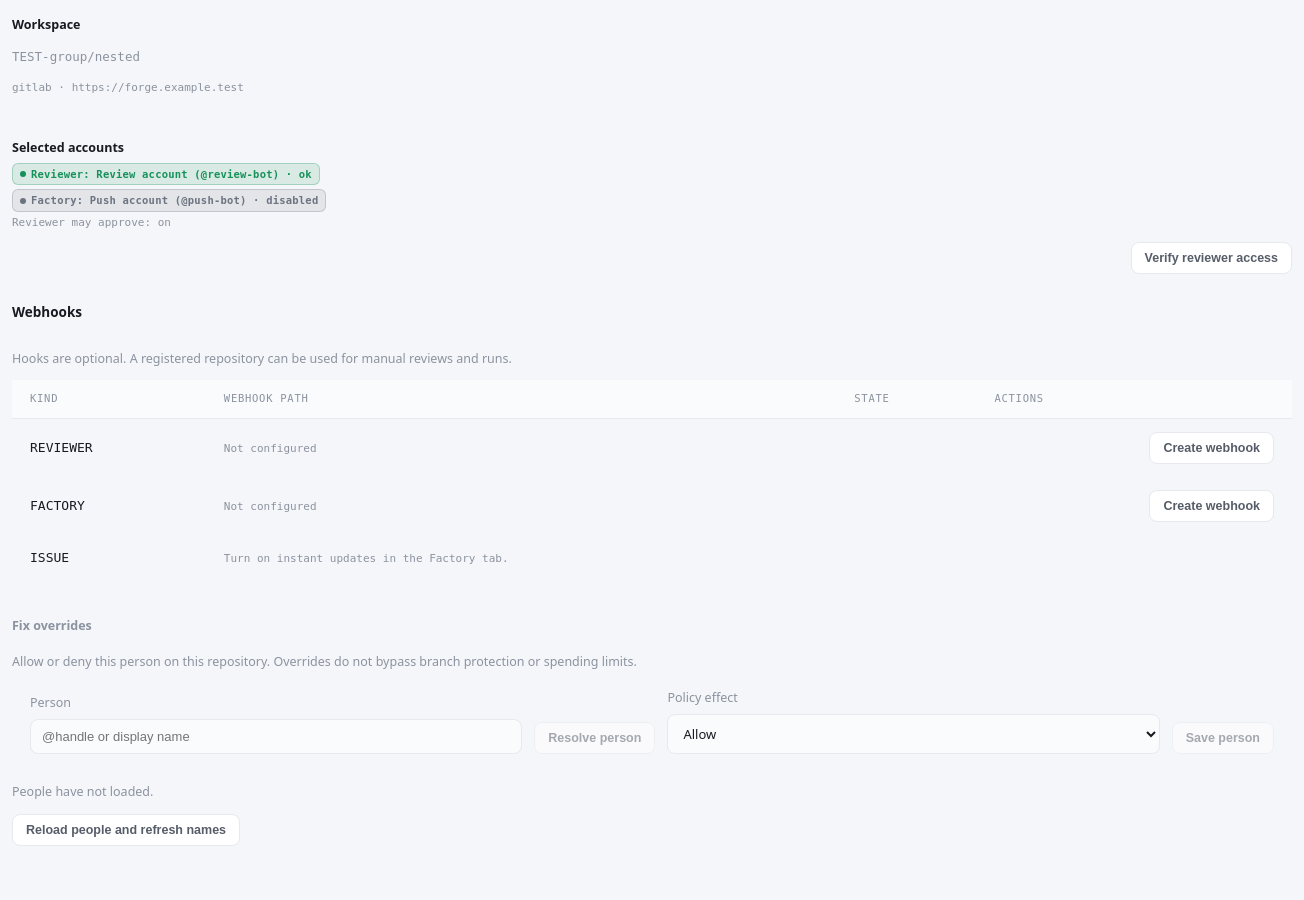
RepositoryDetail › recovers a lost webhook response without creating a duplicate
Step 1. Click the button with aria-label "Create REVIEWER webhook" → (1212, 448), box [1149,432,1274,464]
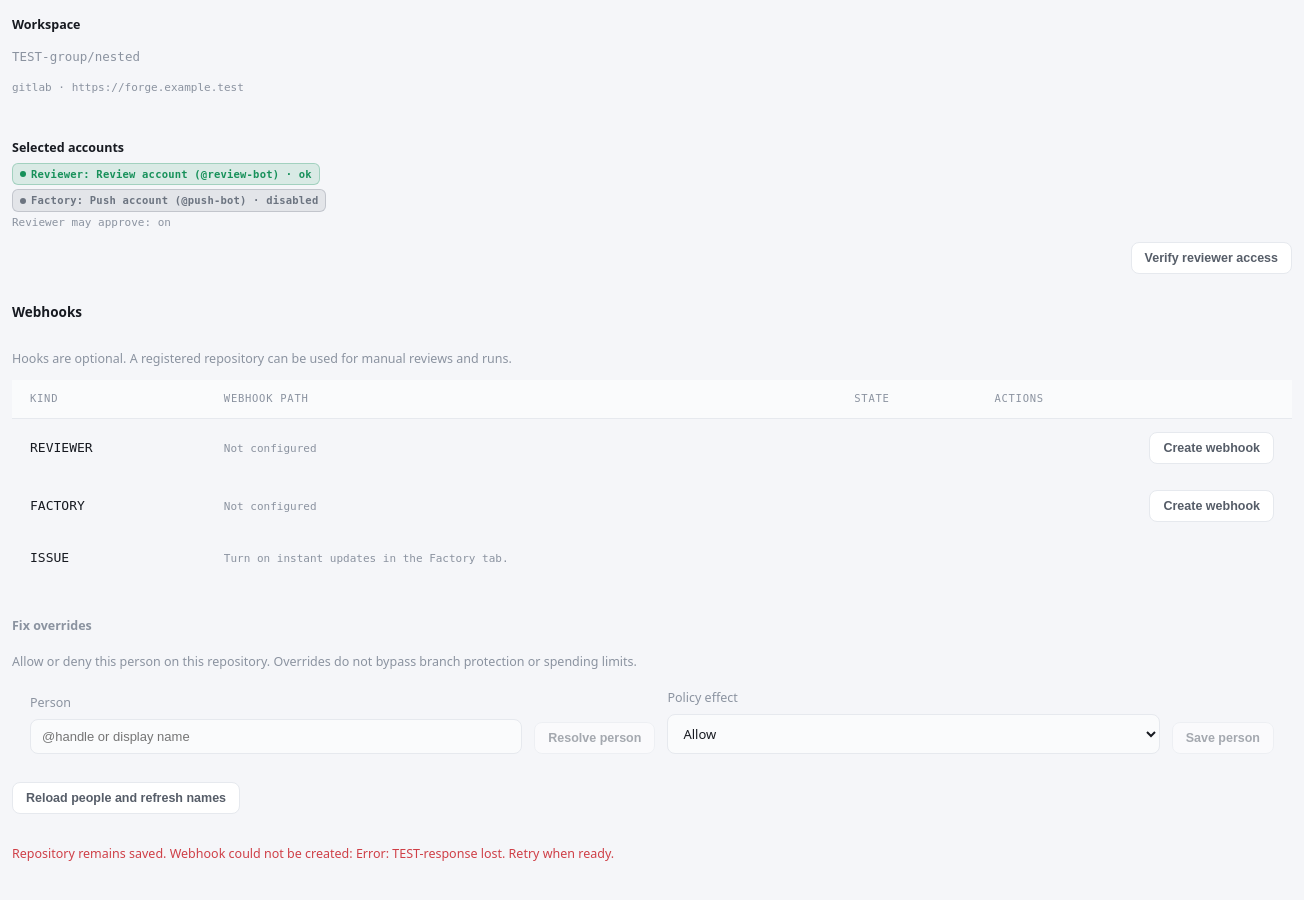
Result: the message shows "Repository remains saved" at [12,845,614,862]
Step 2. Click the button with aria-label "Create REVIEWER webhook" → (1212, 448), box [1149,432,1274,464]
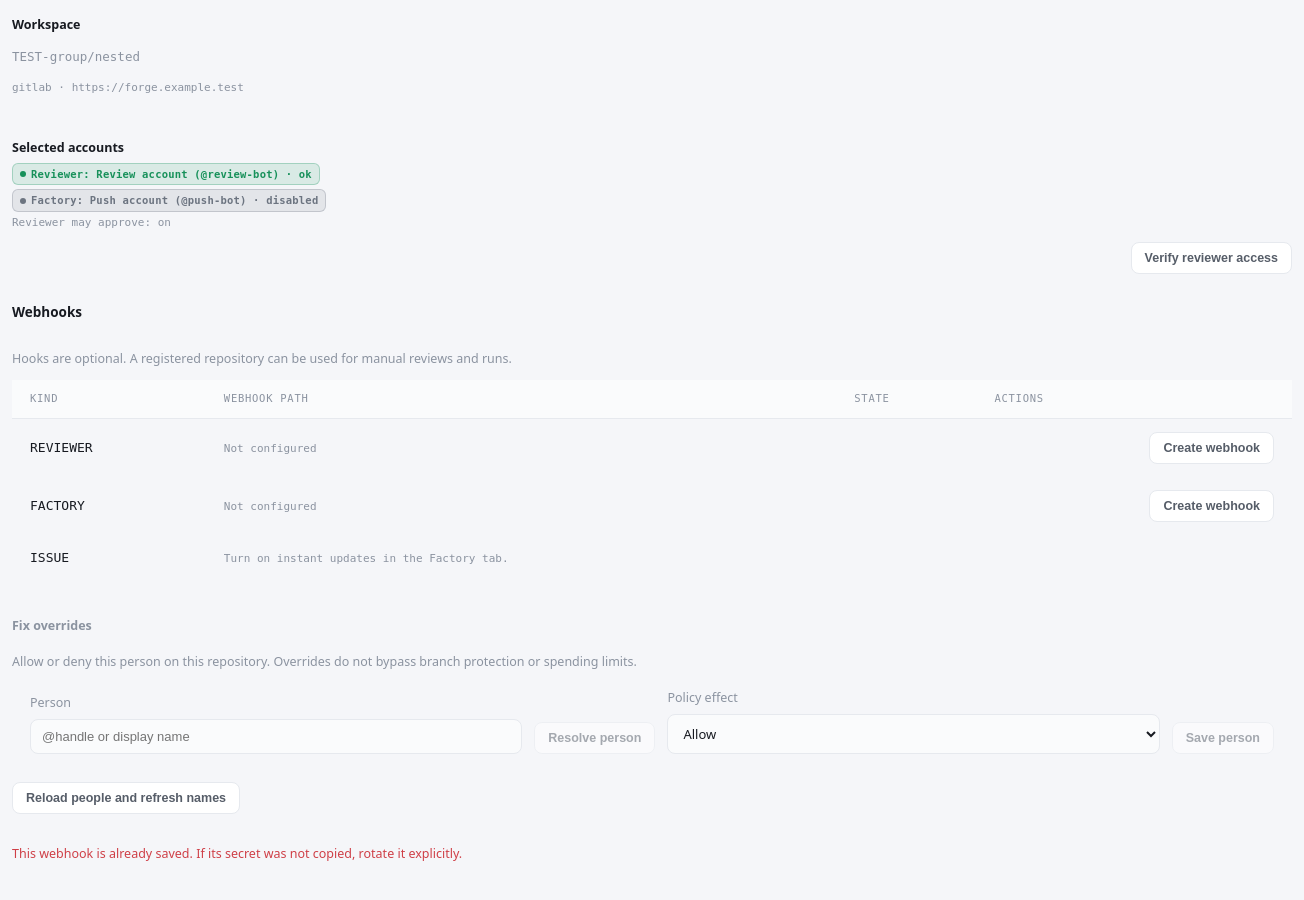
Result: the message shows "rotate it explicitly" at [12,845,462,862]
